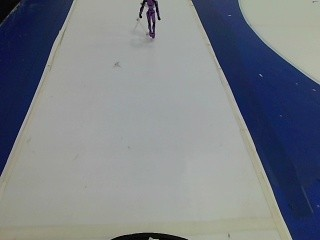pedestrian: (130, 0, 169, 42)
